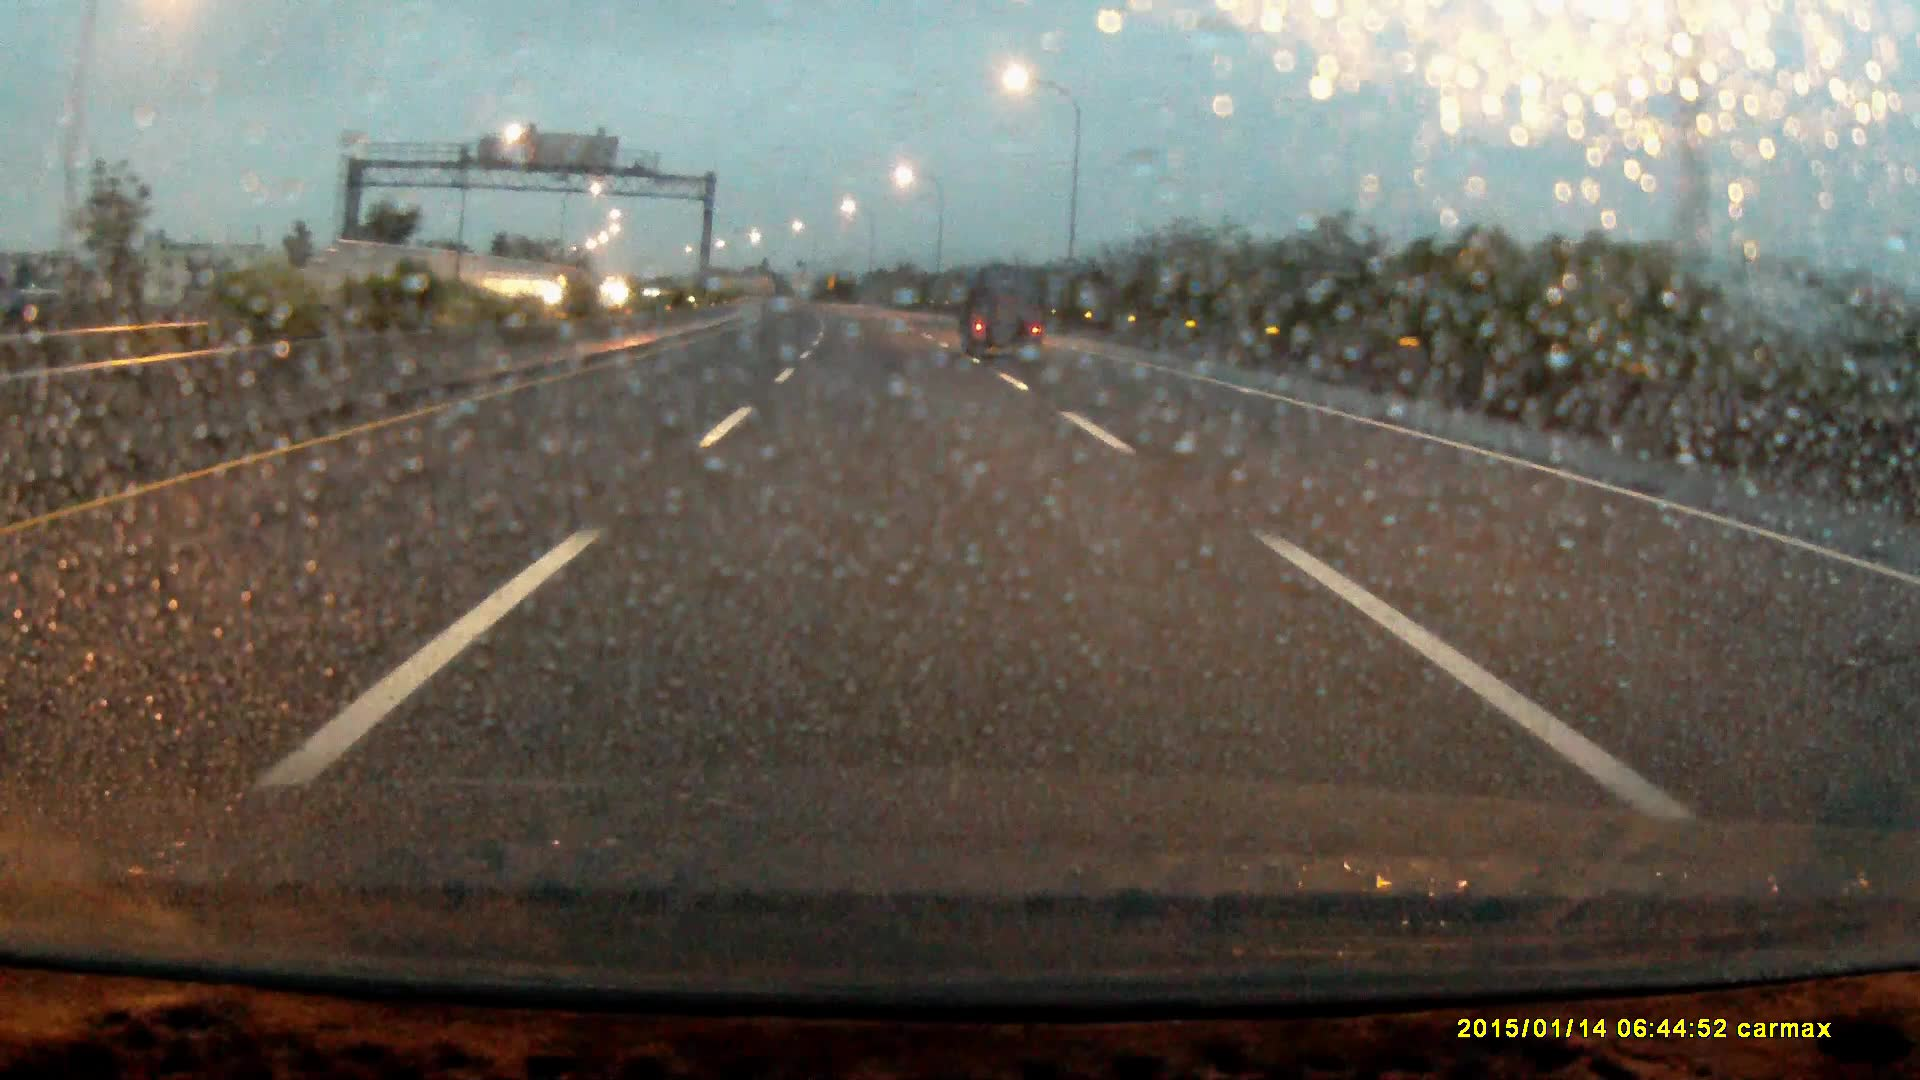vehicle: (964, 273, 1051, 361), (547, 270, 597, 309)
